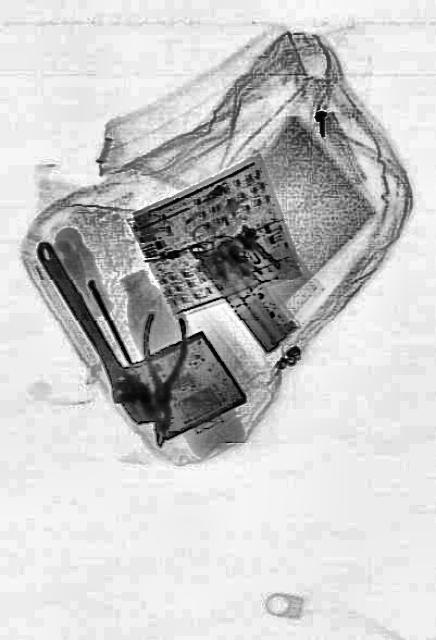Pliers: (137, 311, 187, 447)
Wrench: (27, 227, 158, 436)
